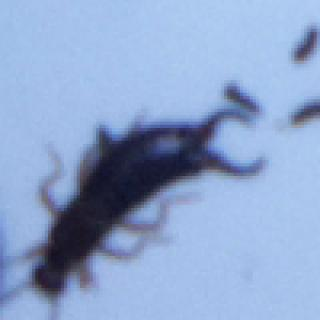earwig: (0, 99, 269, 320)
